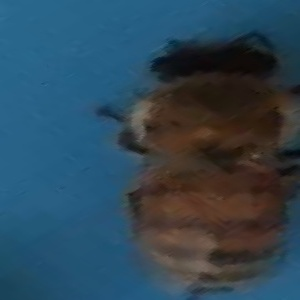bee: (100, 28, 298, 300)
